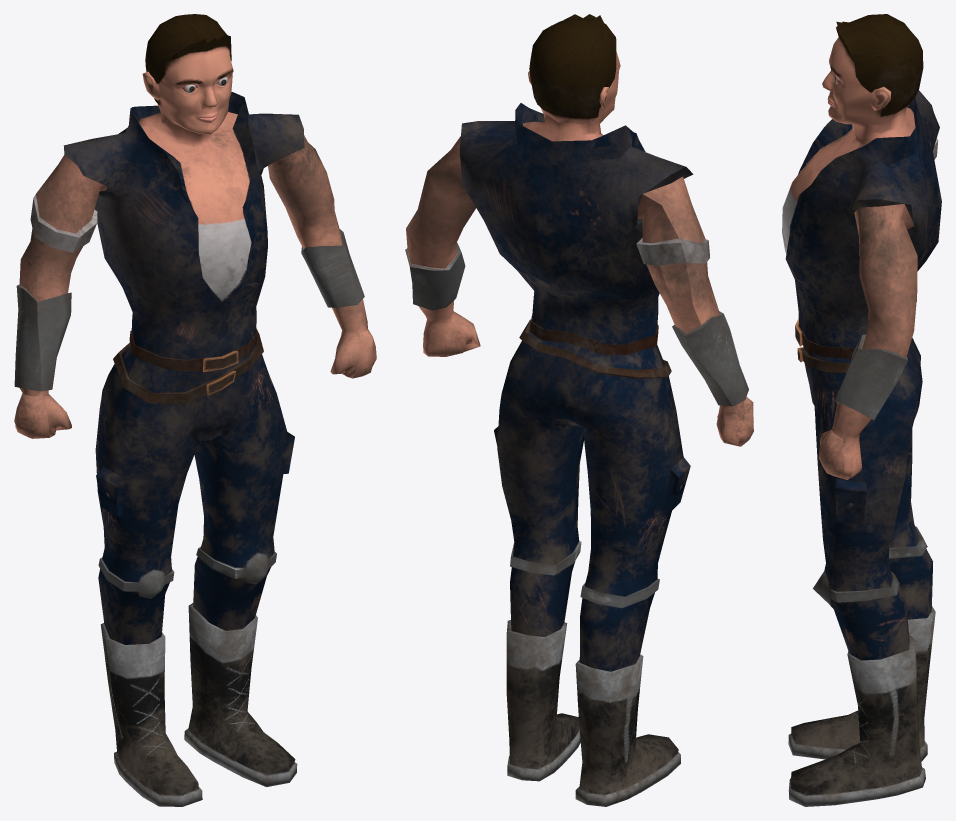
The model's file is Anim_interruptor_jugador.0015.obj.
The picture shows the model from 3 angles, left to right: view 1: azimuth 30°, elevation 25°; view 2: azimuth 150°, elevation 25°; view 3: azimuth 270°, elevation 25°; orthographic projection.
Parts seen in each view (by area): view 1: polySurface1; view 2: polySurface1; view 3: polySurface1.
Boxes of the visible parts, x1,y1,x2,y2 form: polySurface1: (14, 14, 376, 806); polySurface1: (405, 14, 753, 806); polySurface1: (782, 14, 941, 806).
Size of the model in its own units: 4.61 by 9.65 by 1.85.
